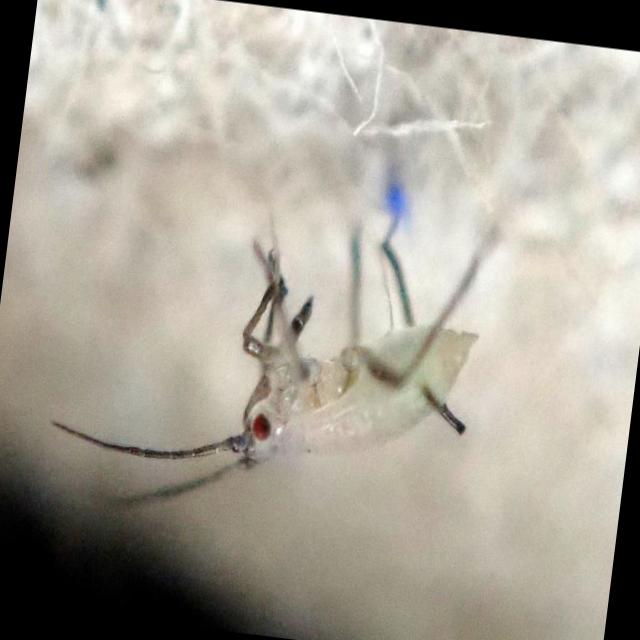Aphid: (49, 144, 519, 567)
